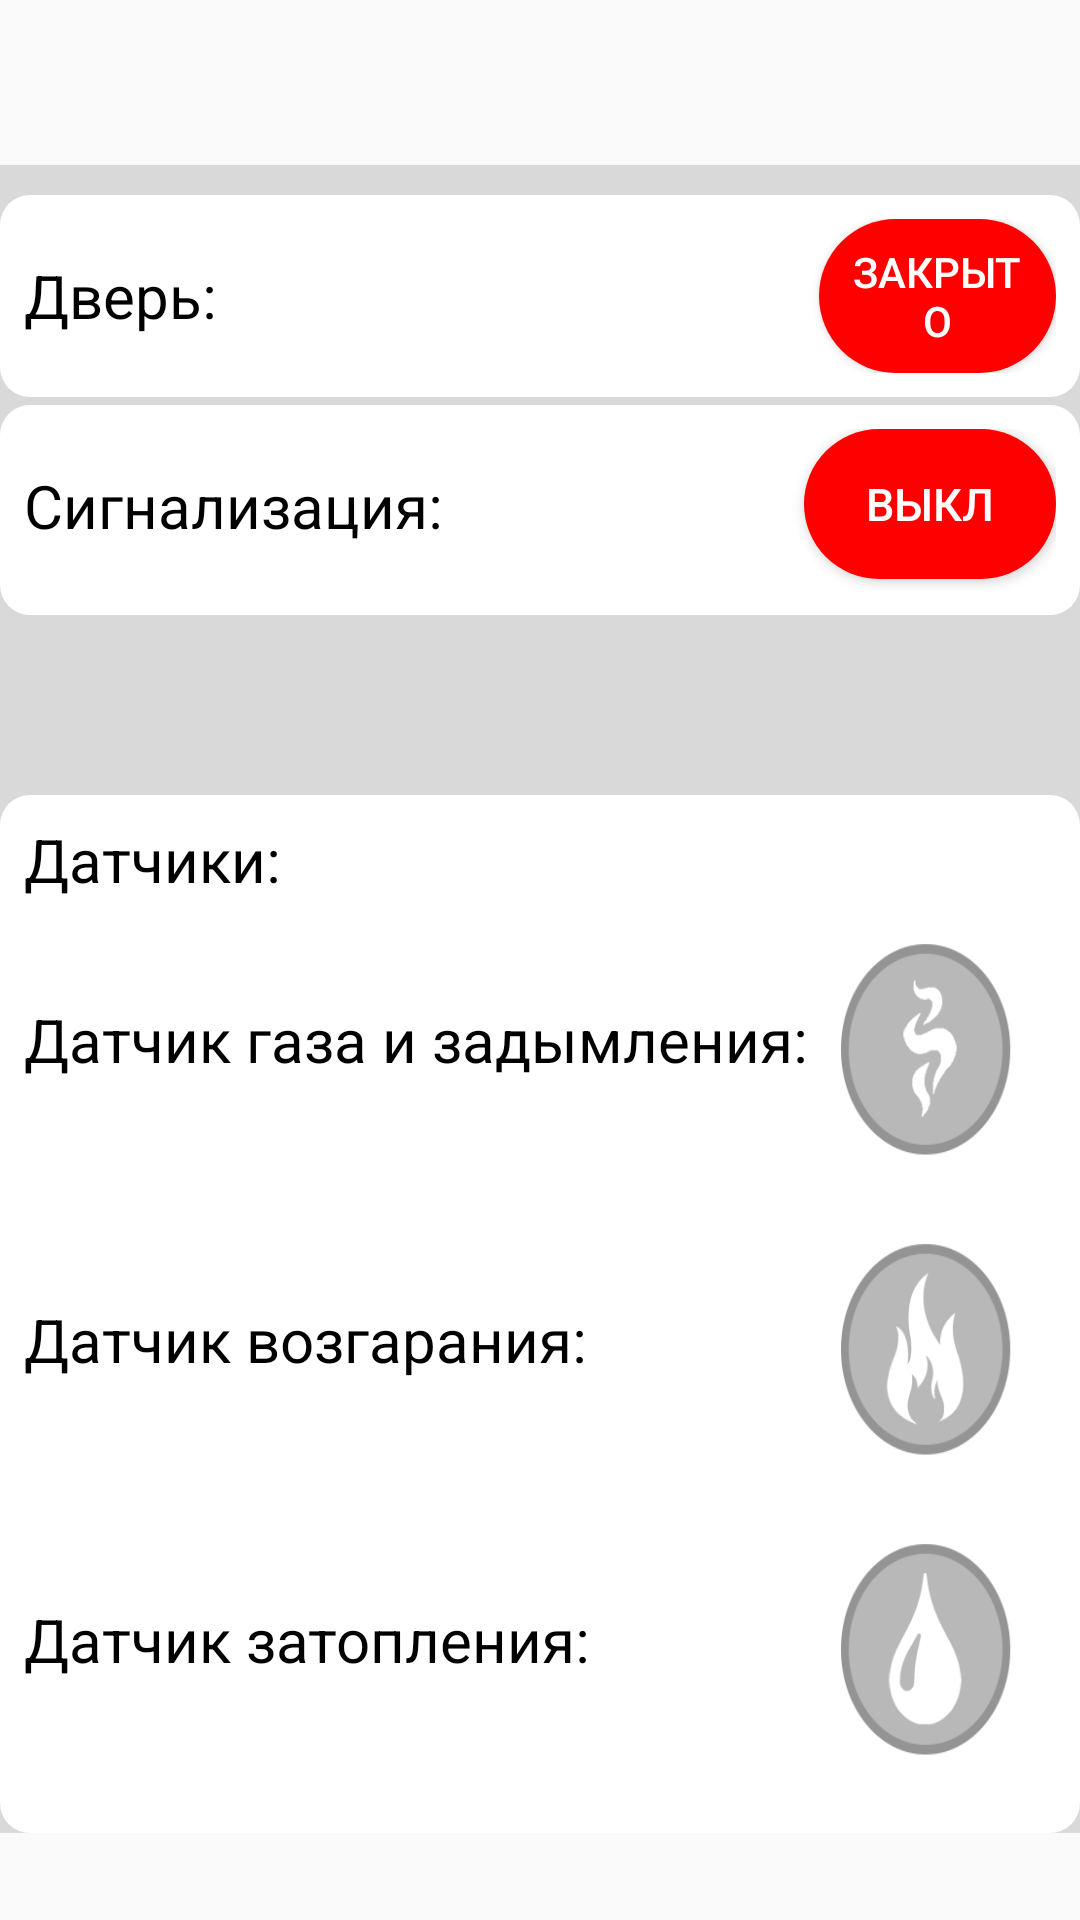

Where to tap for icons on this 1080w x 1920h app screen, as (x,y):
fire off: (926,1349)
gas off: (926,1049)
water off: (926,1649)
